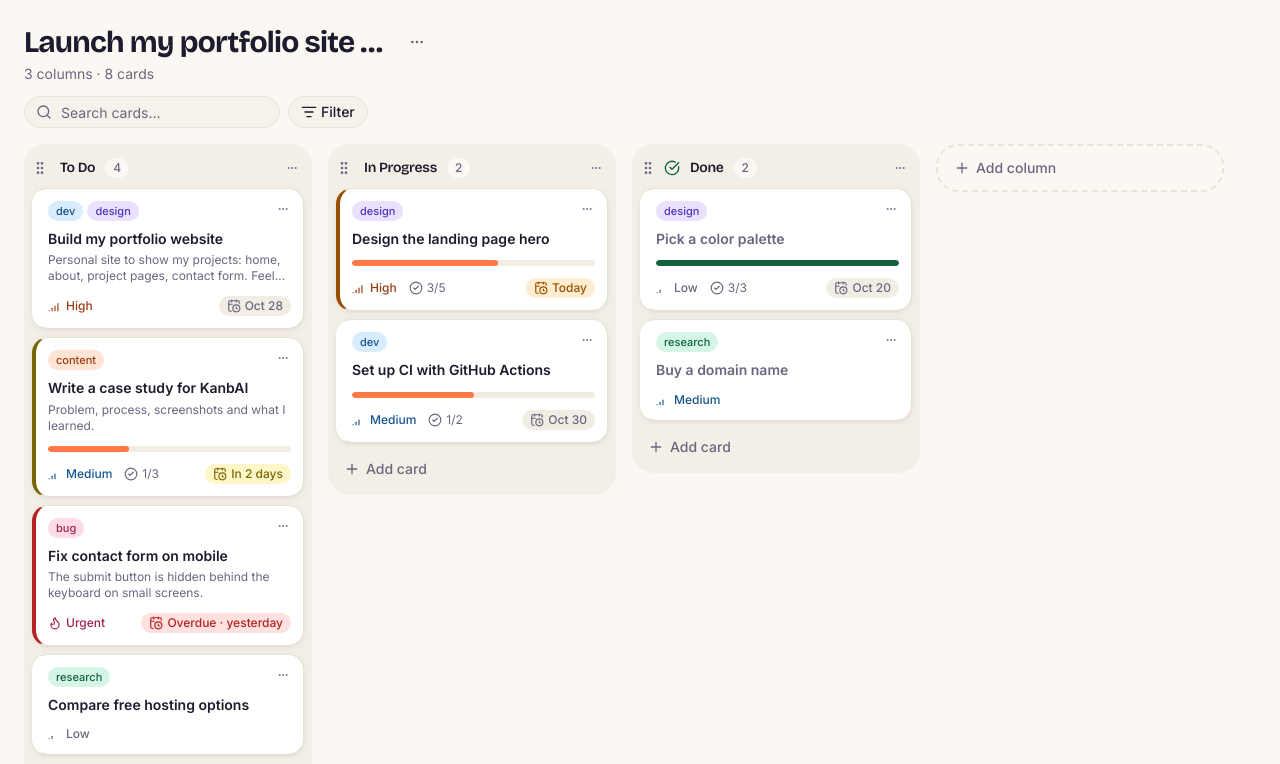
Test: column CRUD › renames a column by clicking its title
The image size is (1280, 764).
Click the button "To Do".
click(78, 168)  # box left=56, top=156, right=99, bottom=180
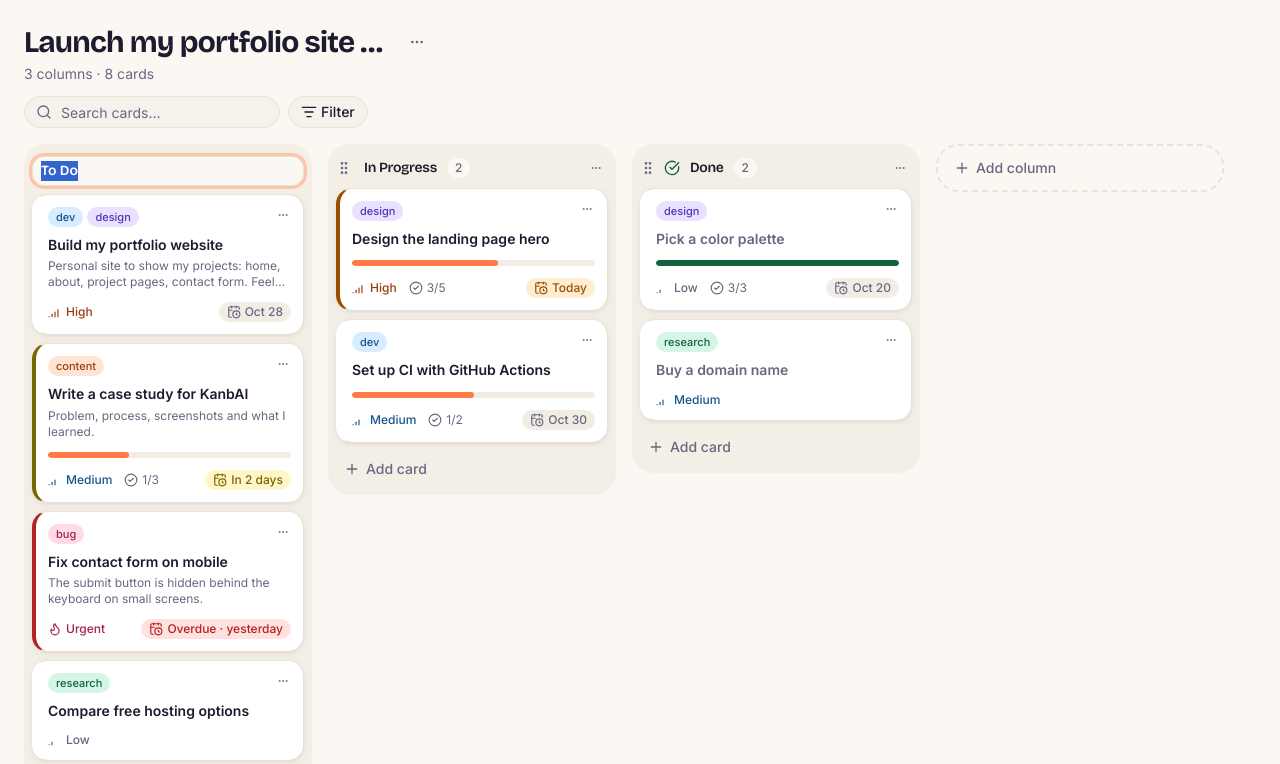
Replace the text in the field named "Column name" with "Backlog" at x=168, y=171, box left=32, top=156, right=304, bottom=186
Then press Enter
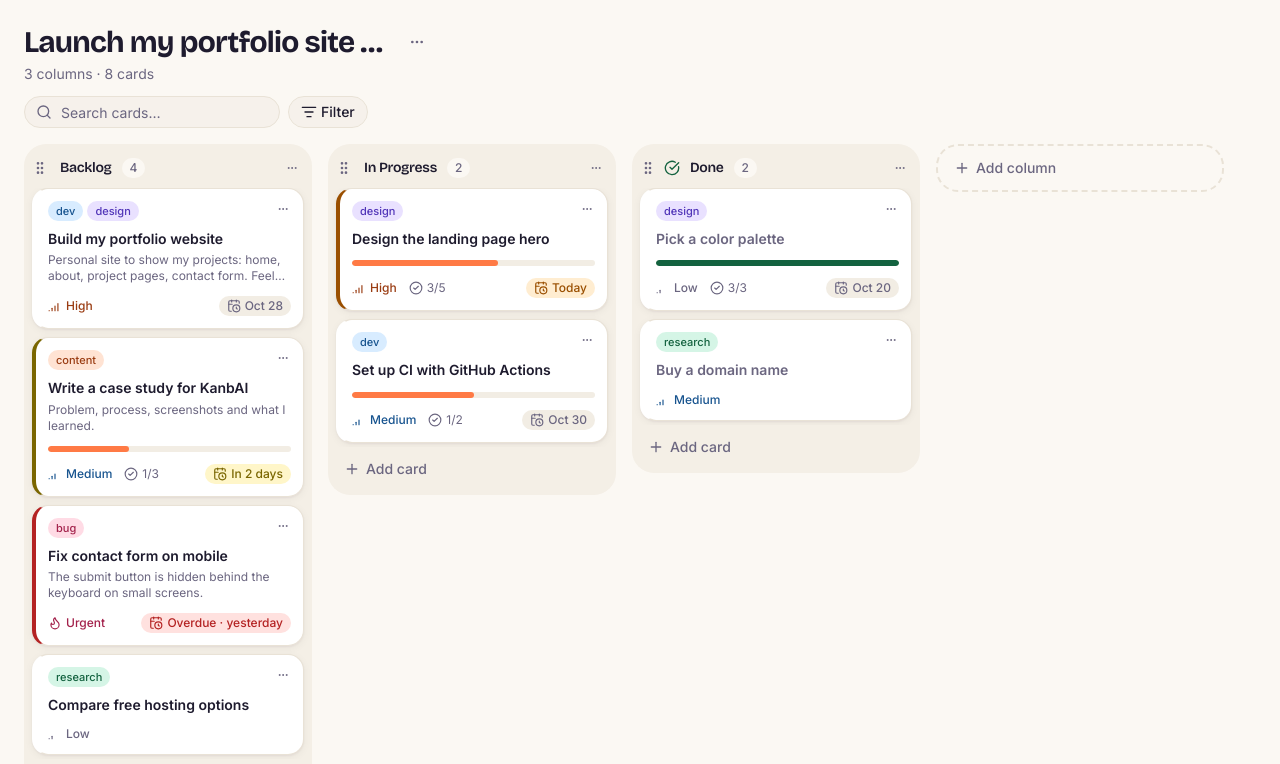
expect the button "Backlog" is shown: met, box left=56, top=156, right=116, bottom=180
